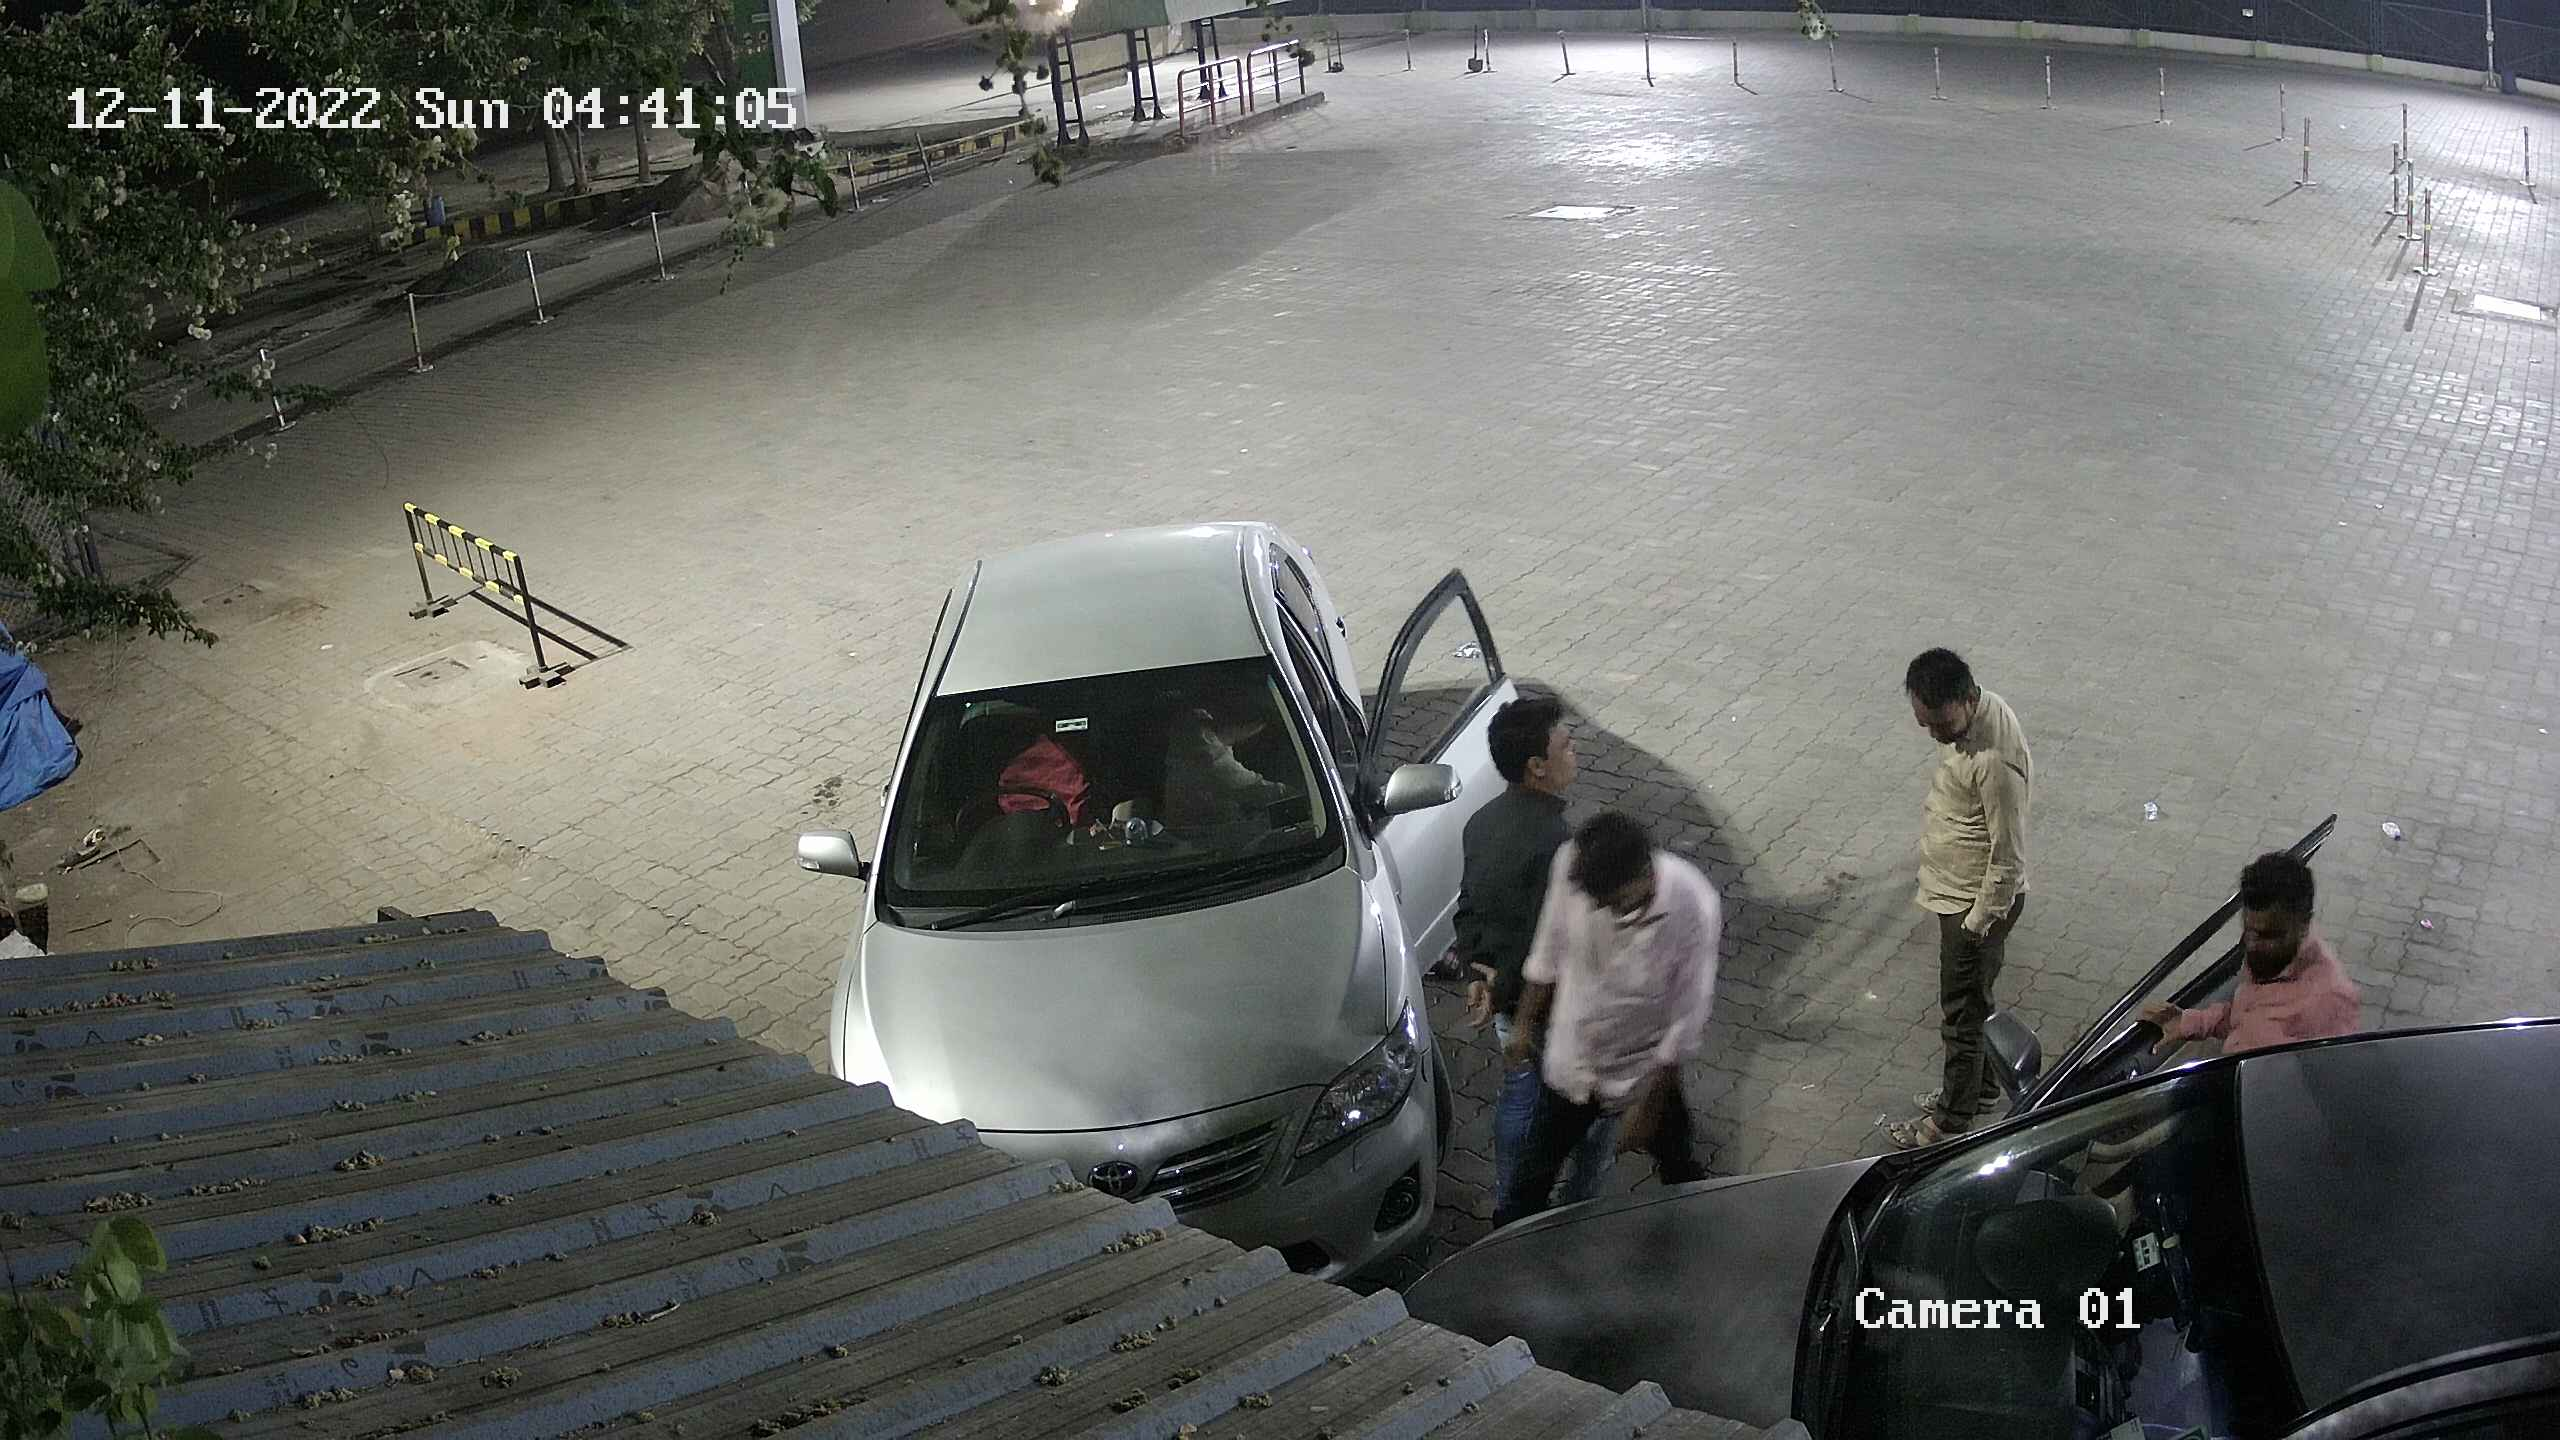Car: (1354, 796, 2558, 1435), (772, 485, 1551, 1303)
